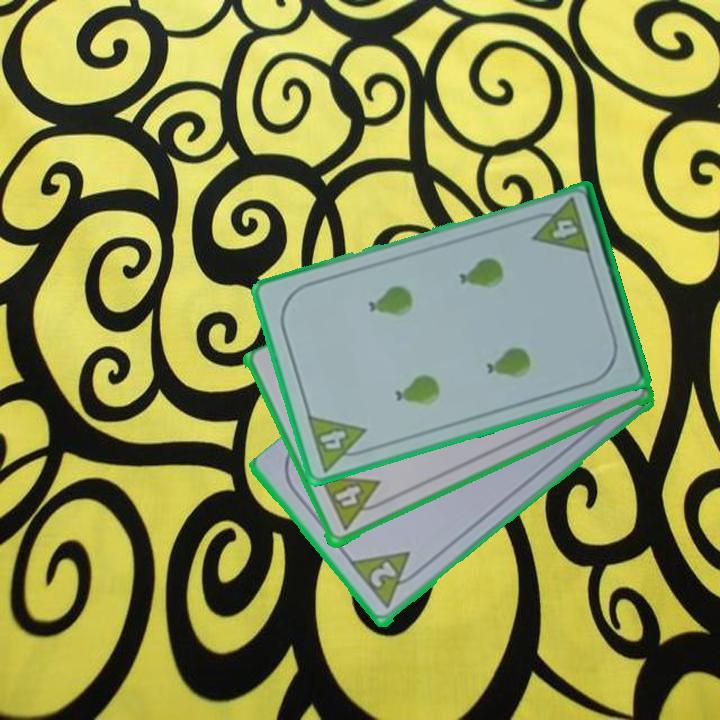2p: (366, 558, 399, 592)
4p: (303, 411, 374, 475), (524, 194, 592, 258), (320, 472, 380, 515)
